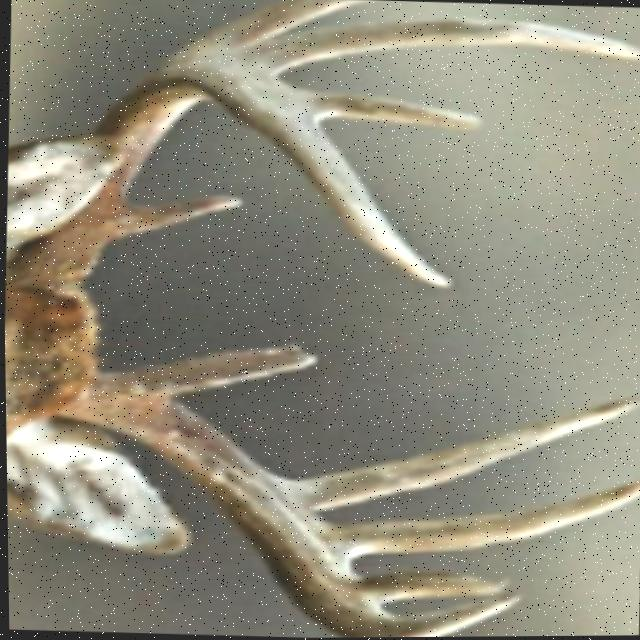L-F: (43, 369, 527, 638), (5, 37, 459, 290)
L-G1: (108, 193, 245, 243)
L-G2: (198, 0, 388, 49)
L-G3: (242, 17, 640, 76)
L-G5: (295, 88, 484, 132)
R-G1: (115, 342, 322, 395)
R-G2: (285, 397, 640, 515)
R-G3: (327, 479, 640, 562)
R-G4: (357, 572, 511, 606)
